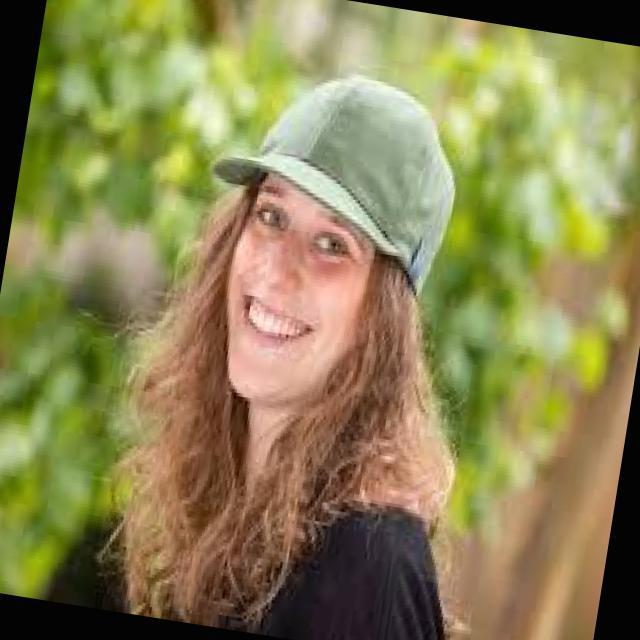cap: (182, 45, 487, 335)
